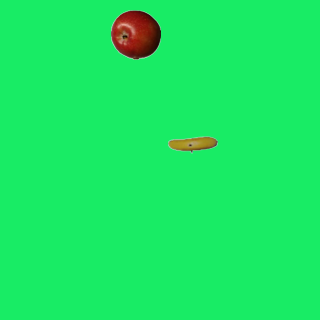Apple Braeburn: (110, 9, 160, 59)
Banana: (167, 119, 217, 169)
